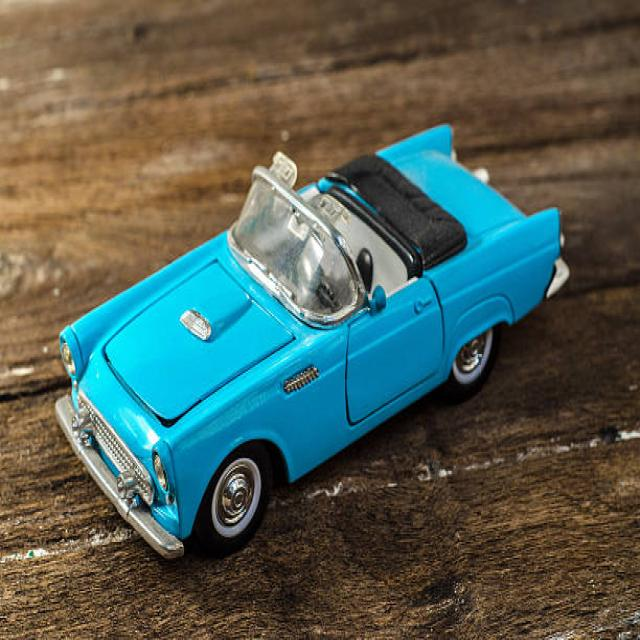Car: (53, 122, 570, 561)
